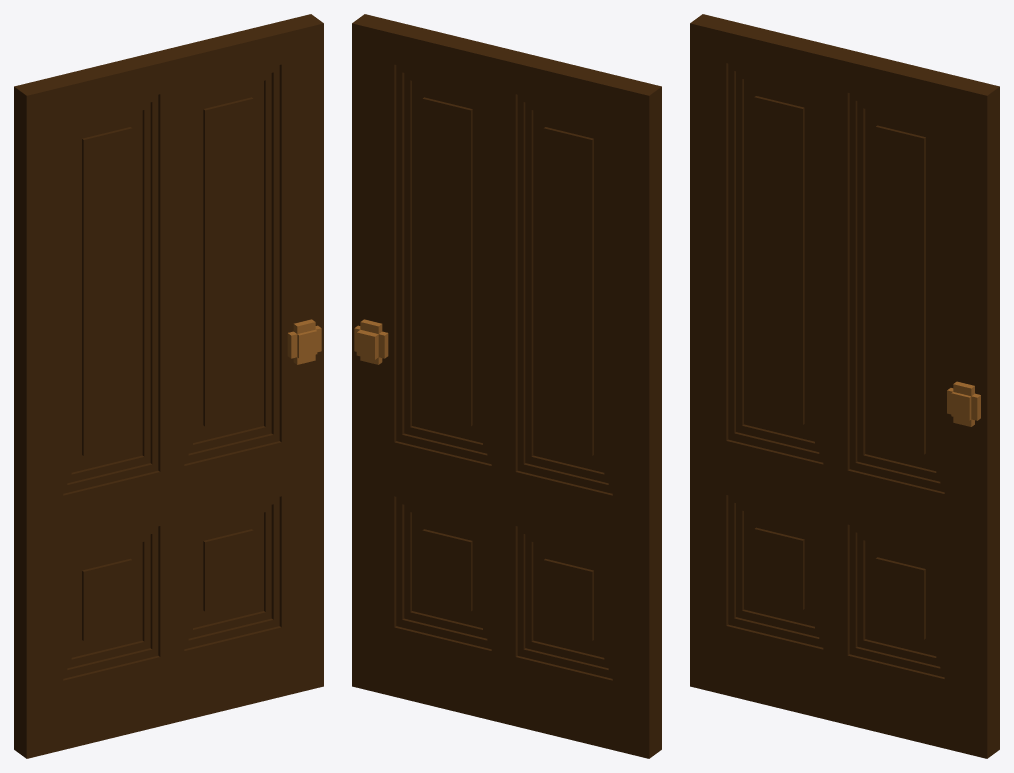
File: door.fbx
3 renders of one model, left to right at view 1: azimuth 30°, elevation 25°; view 2: azimuth 150°, elevation 25°; view 3: azimuth 330°, elevation 25°, orthographic.
Parts seen in each view (by area): view 1: Porte; view 2: Porte; view 3: Porte.
Part boxes in pixels (x1,y1,x2,y2): Porte: [14, 14, 323, 758]; Porte: [352, 14, 661, 758]; Porte: [690, 14, 999, 758].
Bounding box in the file's own units: 93.8 × 200 × 14.
1 material, 1 textured.
